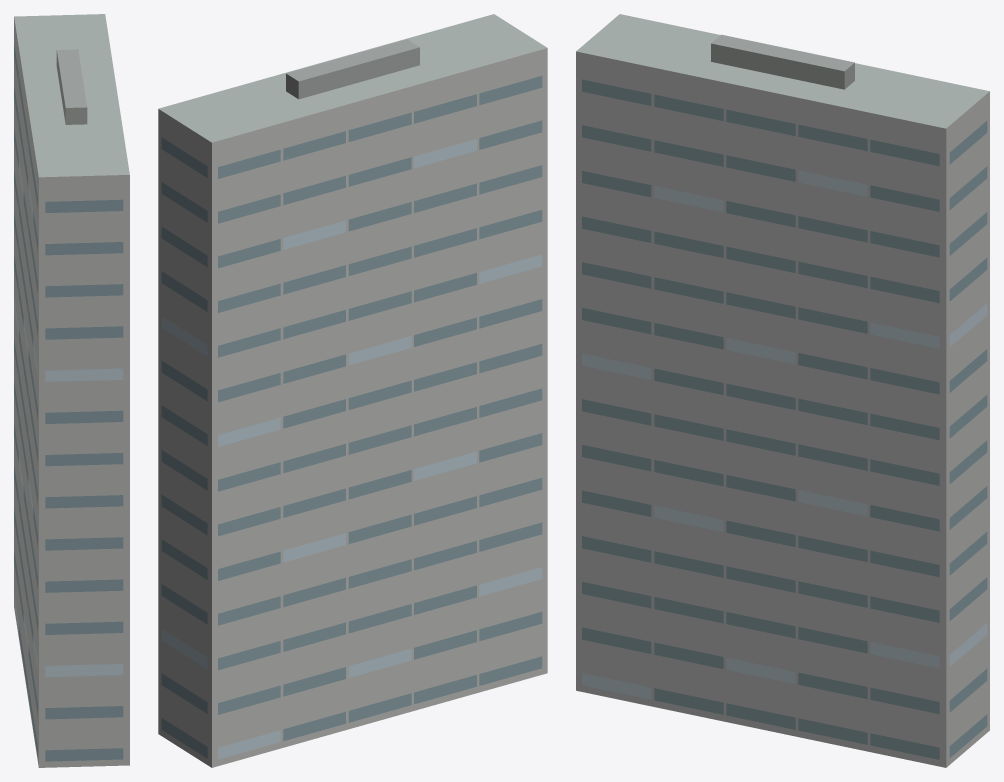
Rendered from fallback-jamsil-ricenz-250.glb.
3 views of the same model, side by side, from view 1: azimuth 30°, elevation 25°; view 2: azimuth 150°, elevation 25°; view 3: azimuth 270°, elevation 25° (orthographic). The views are drawn at different scales.
Parts seen in each view (by area): view 1: fallback-jamsil-ricenz-250; view 2: fallback-jamsil-ricenz-250; view 3: fallback-jamsil-ricenz-250.
Boxes of the visible parts, box(x1,y1,x2,y2) form: fallback-jamsil-ricenz-250: box(14, 14, 129, 767); fallback-jamsil-ricenz-250: box(158, 14, 547, 767); fallback-jamsil-ricenz-250: box(576, 14, 989, 767).
Bounding box in the file's own units: 32.17 × 86 × 49.06.
